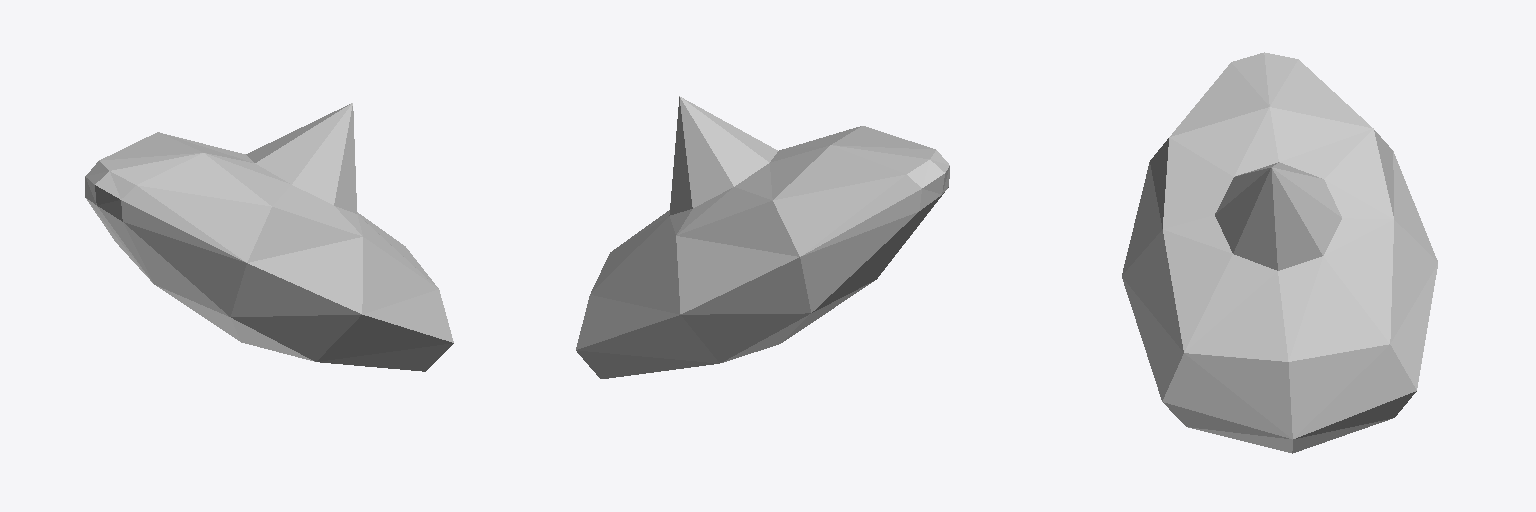
Rendered from gator_tail2.obj.
The picture shows the model from 3 angles: view 1: azimuth 30°, elevation 25°; view 2: azimuth 150°, elevation 25°; view 3: azimuth 270°, elevation 25°; orthographic projection.
Parts seen in each view (by area): view 1: Tail_2.001; view 2: Tail_2.001; view 3: Tail_2.001.
Part boxes in pixels (bbox=[...]): Tail_2.001: bbox=[85, 103, 453, 371]; Tail_2.001: bbox=[576, 96, 949, 378]; Tail_2.001: bbox=[1122, 52, 1437, 453].
Size of the model in its own units: 0.2281 by 0.1726 by 0.185.